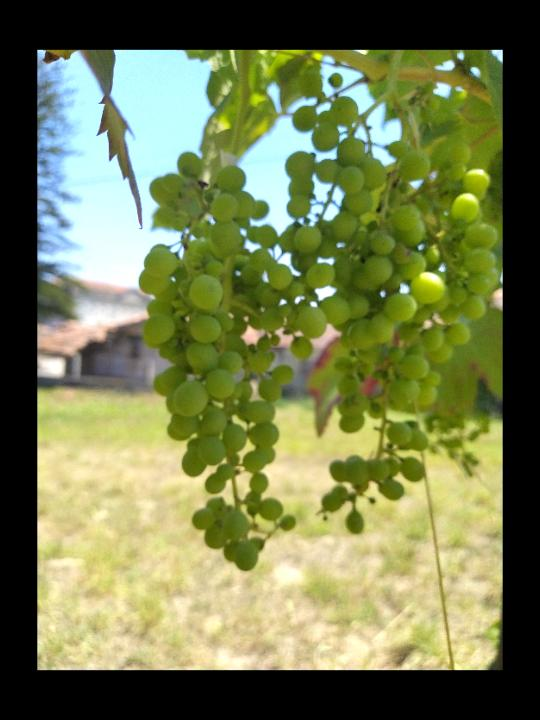grape: (284, 74, 497, 536), (136, 151, 312, 576)
